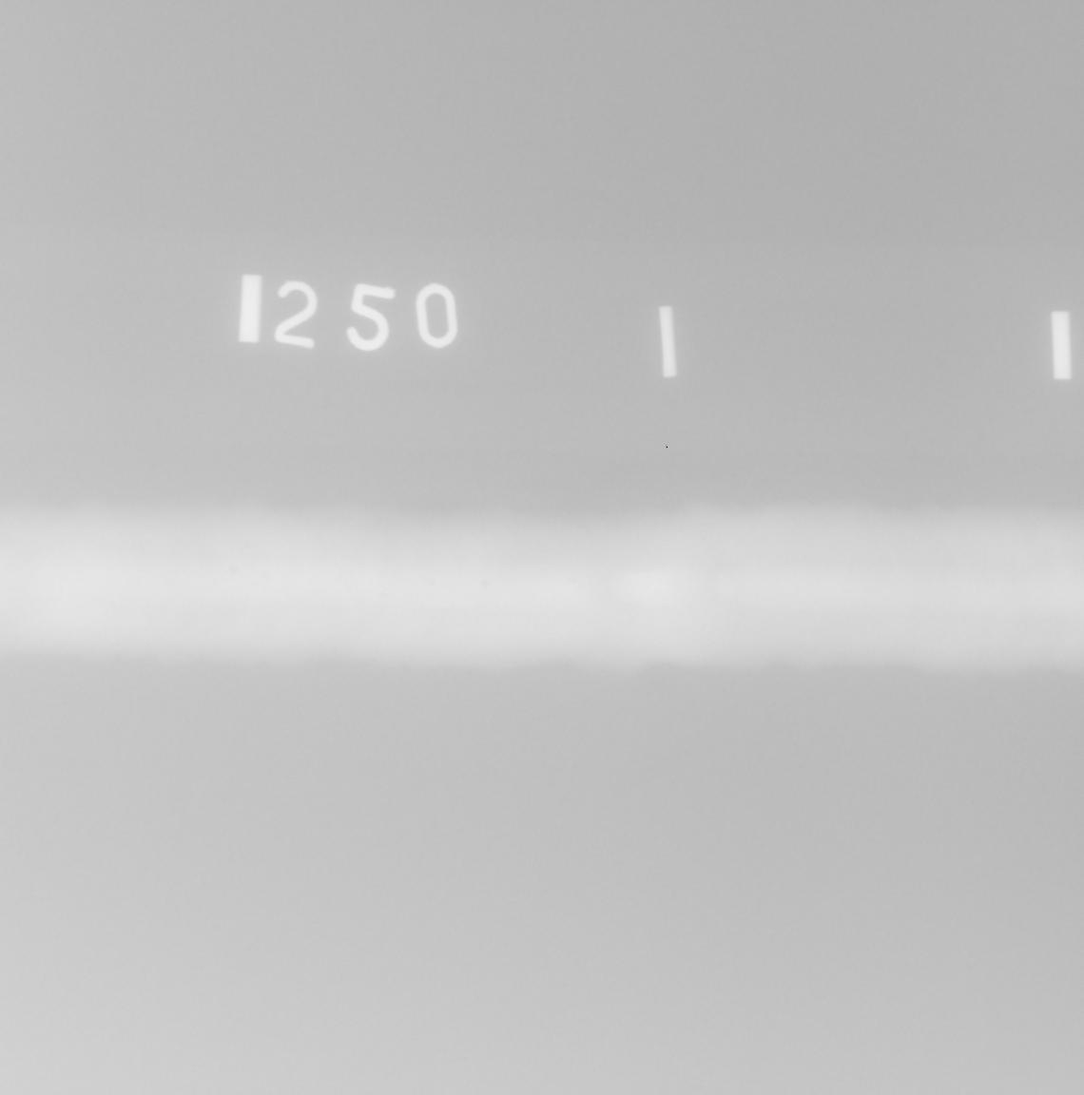Pore/Porosity: (479, 578, 490, 590), (567, 575, 577, 586), (228, 565, 238, 575), (377, 575, 386, 581), (428, 580, 435, 586), (378, 592, 385, 598), (263, 573, 269, 578)
